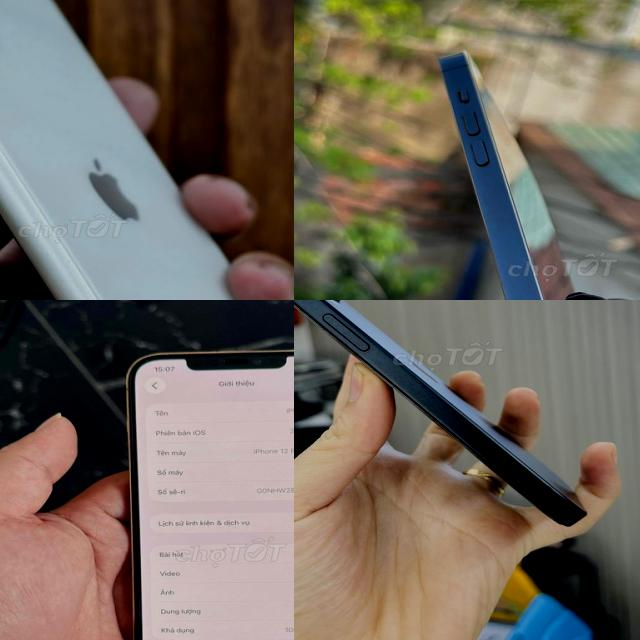gen_11: (0, 0, 294, 300)
gen_12_13: (119, 346, 294, 640)
gen_14: (428, 39, 640, 300)
gen_15: (294, 300, 595, 557)
